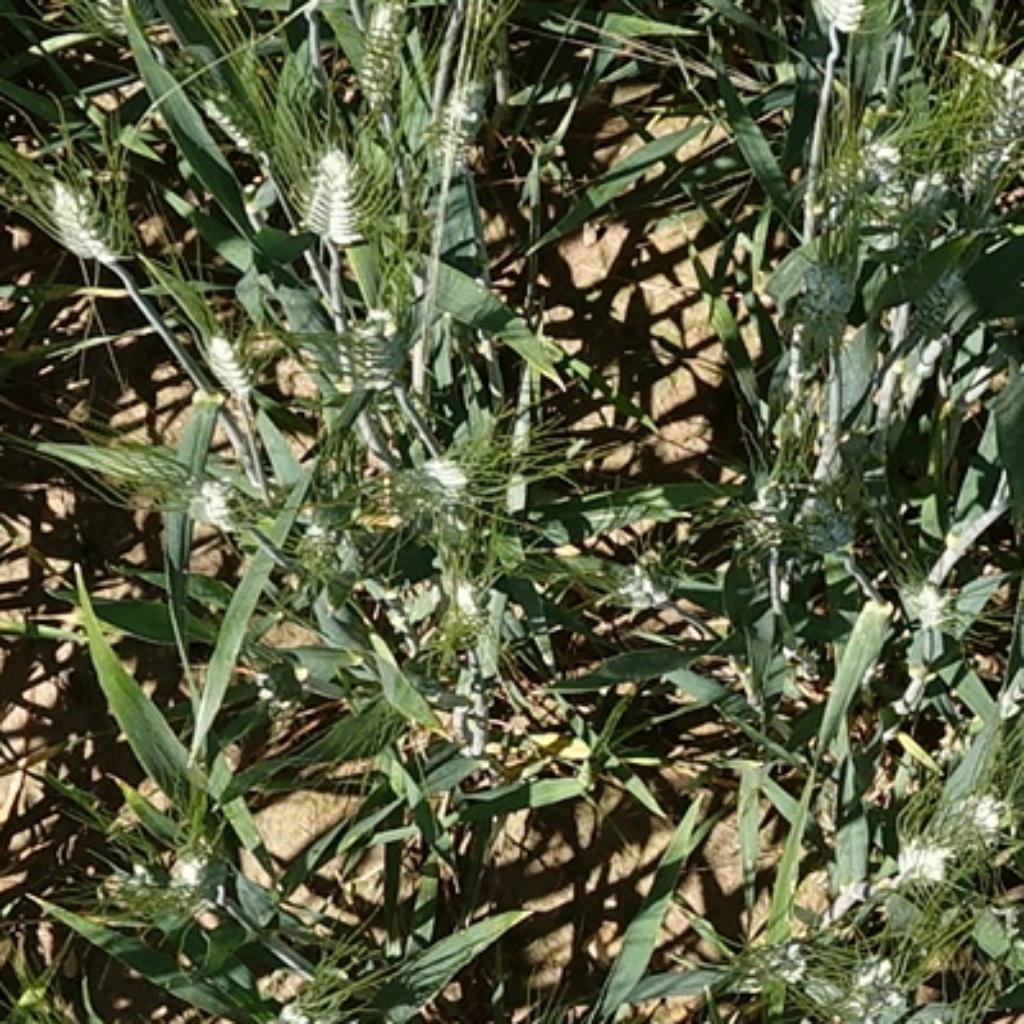0-0: (23, 143, 140, 263), (721, 430, 814, 555), (948, 53, 1024, 199), (88, 851, 231, 925), (793, 939, 911, 1024), (176, 71, 289, 158), (798, 112, 913, 197), (289, 128, 371, 245), (414, 58, 501, 168), (709, 913, 814, 993), (593, 542, 688, 627), (340, 2, 419, 104), (327, 301, 411, 396), (284, 496, 371, 586), (919, 775, 1016, 855), (898, 254, 980, 341), (780, 248, 867, 325), (192, 317, 263, 394), (71, 2, 153, 61), (890, 563, 962, 627), (390, 447, 464, 509), (883, 821, 954, 885), (803, 2, 893, 51), (187, 476, 255, 537), (423, 598, 496, 652), (908, 148, 949, 232), (808, 500, 861, 562), (271, 983, 346, 1024), (260, 649, 311, 701)
